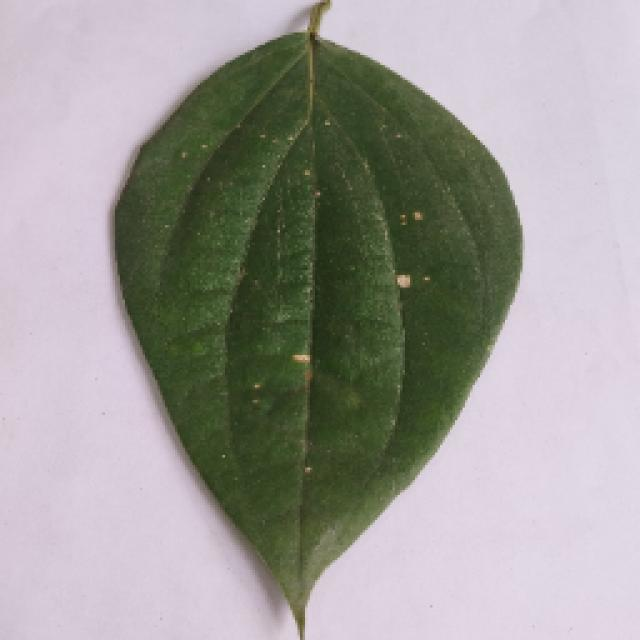pollu-disease: (85, 10, 543, 632)
